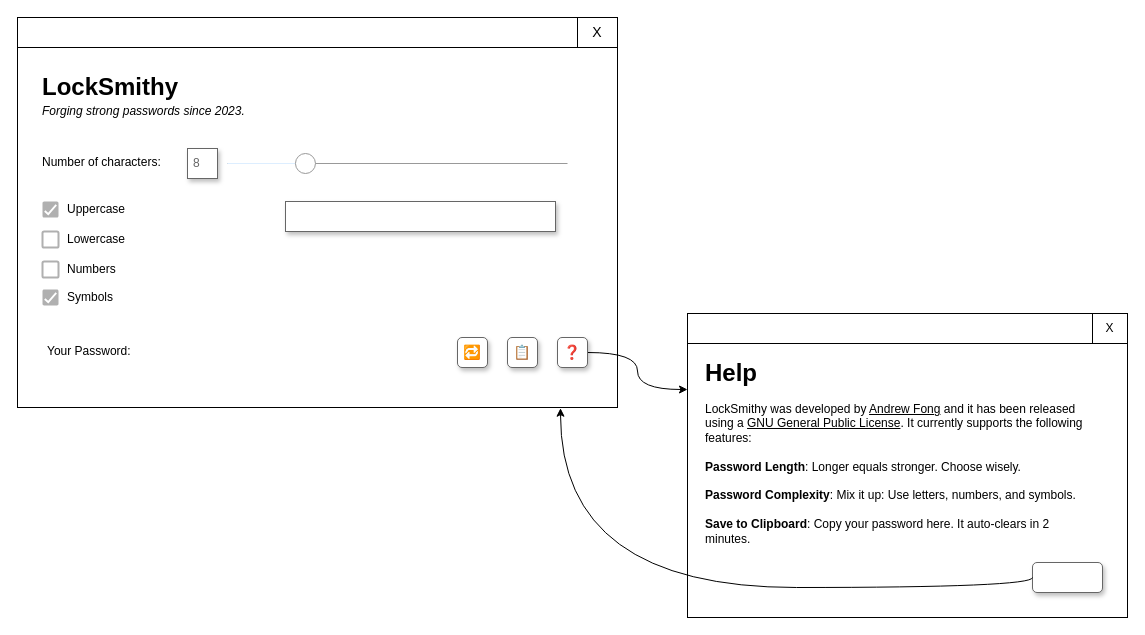
Some shapes in this 1145 by 635 pixel diagram are drawn without their labels. Each missing label, with the centre of its shape:
!HSC!KEK: (421,217)
Close: (1068,579)
